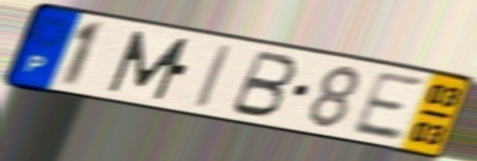1: (60, 18, 111, 92)
8: (304, 63, 365, 131)
B: (225, 48, 300, 120)
E: (347, 68, 428, 143)
I: (191, 41, 236, 112)
M: (105, 28, 192, 103)
